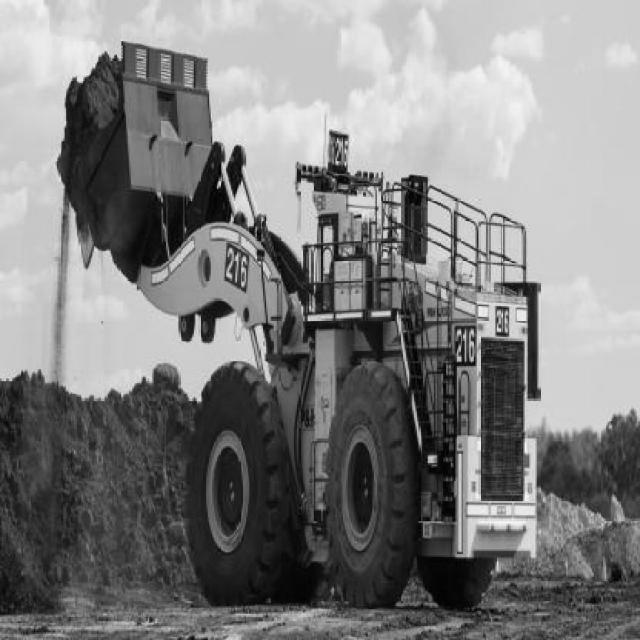Construction Equipment: (72, 42, 542, 610)
